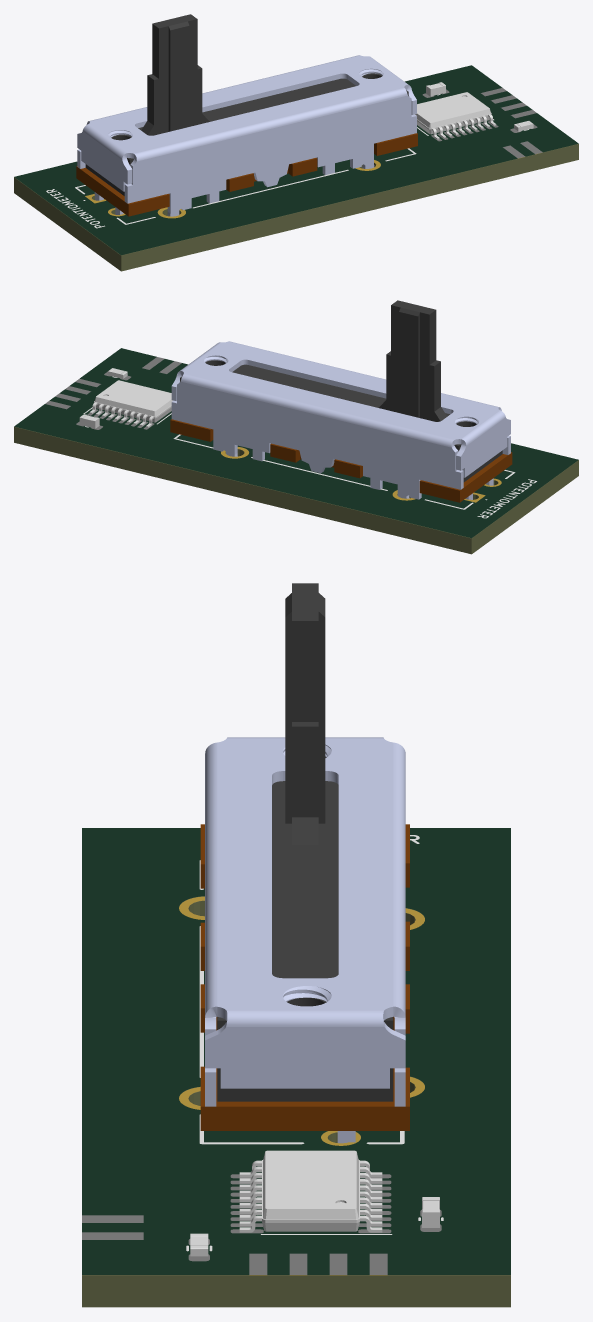
File: REPLICATE_slider_15mm.glb
3 renders of one model, top to bottom at view 1: azimuth 30°, elevation 25°; view 2: azimuth 150°, elevation 25°; view 3: azimuth 270°, elevation 25°, orthographic. The views are drawn at different scales.
Parts seen in each view (by area): view 1: Compound.011, Face.002, Compound.016, Compound.012, Compound.010, Compound.002, Face.001, Face.005, Face; view 2: Compound.011, Face.002, Compound.016, Compound.012, Compound.010, Compound.002, Face.001, Face.005, Face; view 3: Face.002, Compound.011, Compound.012, Compound.016, Compound.002, Compound.010, Face.001, Face.005, Face.
Boxes of the visible parts, box(x1,y1,x2,y2) form: Compound.011: box(77, 55, 416, 216); Face.002: box(14, 65, 578, 255); Compound.016: box(14, 144, 578, 271); Compound.012: box(85, 14, 408, 195); Compound.010: box(76, 133, 417, 216); Compound.002: box(415, 92, 496, 139); Face.001: box(422, 88, 542, 158); Face.005: box(46, 94, 529, 228); Face: box(85, 153, 537, 218); Compound.011: box(171, 341, 510, 499); Face.002: box(14, 348, 578, 538); Compound.016: box(14, 426, 578, 554); Compound.012: box(180, 300, 502, 482); Compound.010: box(170, 419, 512, 502); Compound.002: box(89, 380, 173, 427); Face.001: box(45, 357, 181, 429); Face.005: box(83, 376, 536, 518); Face: box(221, 447, 501, 502); Face.002: box(82, 828, 510, 1274); Compound.011: box(205, 737, 405, 1106); Compound.012: box(217, 583, 393, 1101); Compound.016: box(82, 896, 510, 1307); Compound.002: box(239, 1150, 382, 1232); Compound.010: box(200, 824, 409, 1130); Face.001: box(82, 1174, 441, 1274); Face.005: box(186, 835, 443, 1251); Face: box(179, 896, 424, 1275).
Size of the model in its own units: 47.45 by 20.2 by 19.25.
